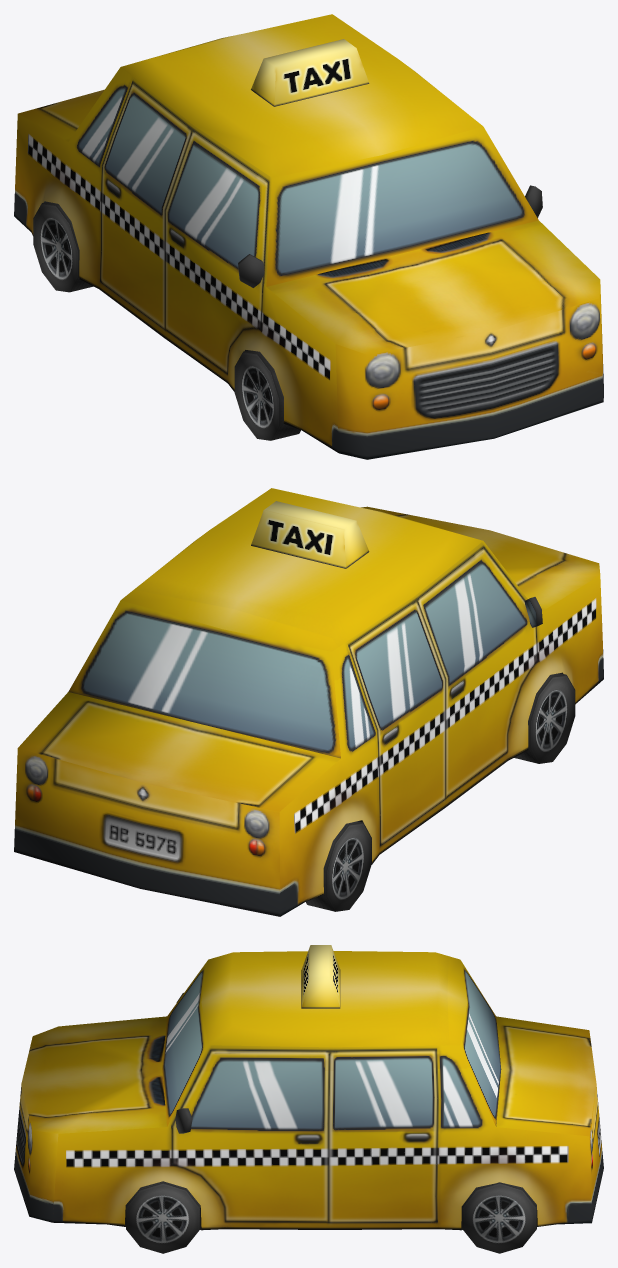
File: taxi.glb
3 renders of one model, top to bottom at view 1: azimuth 30°, elevation 25°; view 2: azimuth 150°, elevation 25°; view 3: azimuth 270°, elevation 25°, orthographic. The views are drawn at different scales.
Parts seen in each view (by area): view 1: car5, taxi, car05_wheel04, car05_wheel02; view 2: car5, taxi, car05_wheel02, car05_wheel04; view 3: car5, car05_wheel03, car05_wheel01, taxi.
Boxes of the visible parts, left/top/right/bottom form: car5: left=14, top=14, right=603, bottom=459; taxi: left=251, top=39, right=369, bottom=106; car05_wheel04: left=234, top=350, right=300, bottom=440; car05_wheel02: left=33, top=202, right=93, bottom=292; car5: left=14, top=488, right=603, bottom=916; taxi: left=251, top=501, right=369, bottom=568; car05_wheel02: left=306, top=821, right=371, bottom=911; car05_wheel04: left=514, top=673, right=575, bottom=763; car5: left=14, top=951, right=603, bottom=1230; car05_wheel03: left=126, top=1181, right=200, bottom=1253; car05_wheel01: left=462, top=1182, right=536, bottom=1253; taxi: left=301, top=945, right=340, bottom=1008.
Size of the model in its own units: 1.71 by 1.51 by 3.48.
Materials: 1 (1 with a texture image).
